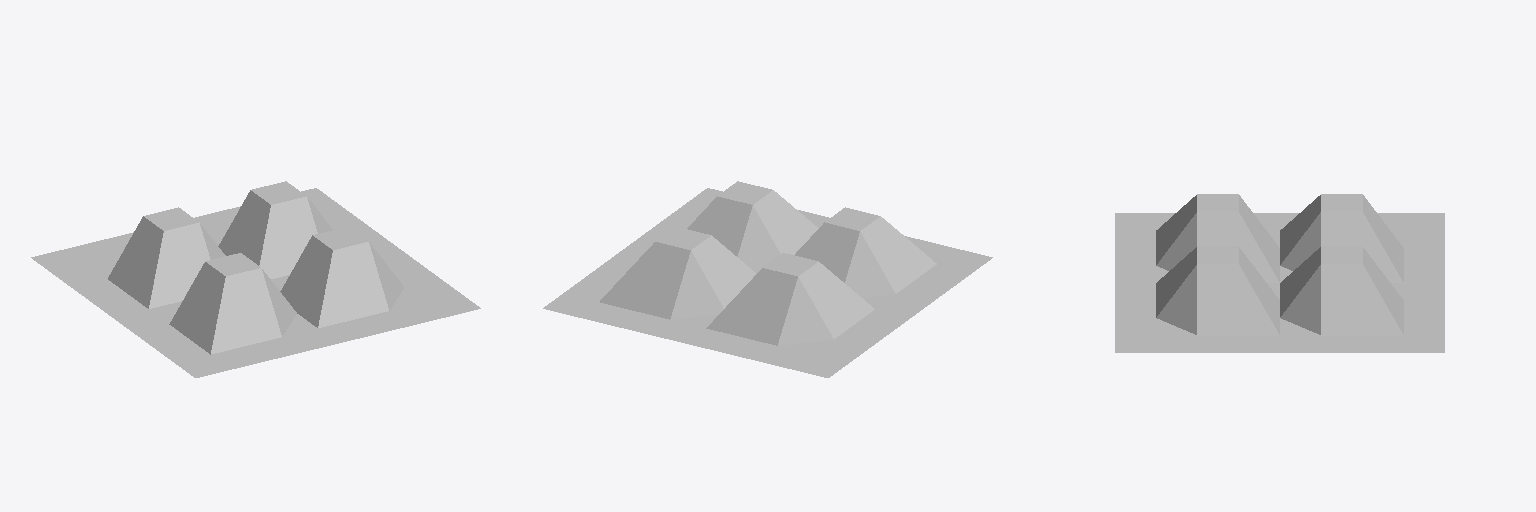
The model's file is pom_low.obj.
3 renders of one model, left to right at view 1: azimuth 30°, elevation 25°; view 2: azimuth 150°, elevation 25°; view 3: azimuth 270°, elevation 25°, orthographic.
Visible parts, largest first — view 1: Plane; view 2: Plane; view 3: Plane.
Part boxes in pixels (bbox=[...]): Plane: bbox=[31, 181, 480, 377]; Plane: bbox=[543, 181, 992, 377]; Plane: bbox=[1115, 194, 1444, 352].
Bounding box in the file's own units: 2 × 0.3626 × 2.